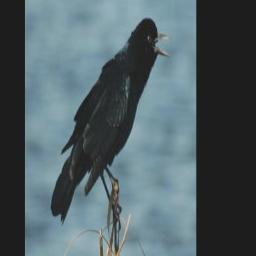Crow: (51, 18, 171, 231)
